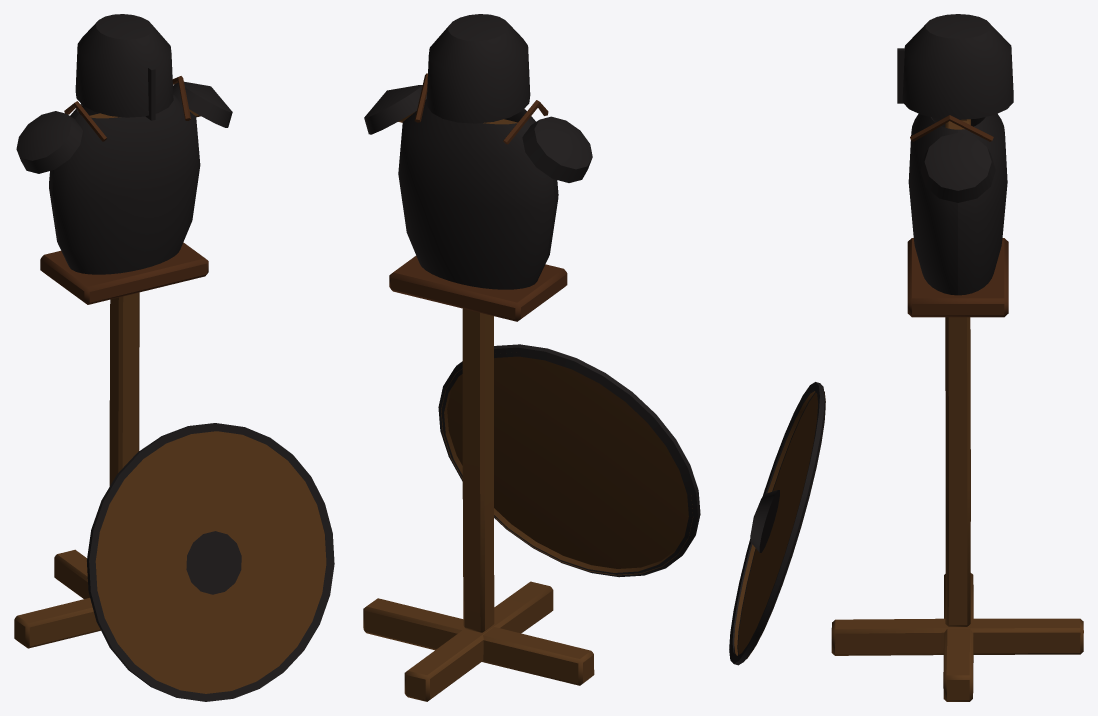
Rendered from ruestungsstaender.glb.
3 views of the same model, side by side, from view 1: azimuth 30°, elevation 25°; view 2: azimuth 150°, elevation 25°; view 3: azimuth 270°, elevation 25° (orthographic). The views are drawn at different scales.
Visible parts, largest first — view 1: ruestungsstaender; view 2: ruestungsstaender; view 3: ruestungsstaender.
Boxes of the visible parts, box(x1,y1,x2,y2) form: ruestungsstaender: box(14, 14, 334, 701); ruestungsstaender: box(363, 14, 700, 701); ruestungsstaender: box(729, 14, 1083, 701).
Size of the model in its own units: 0.7 by 1.65 by 0.8446.
